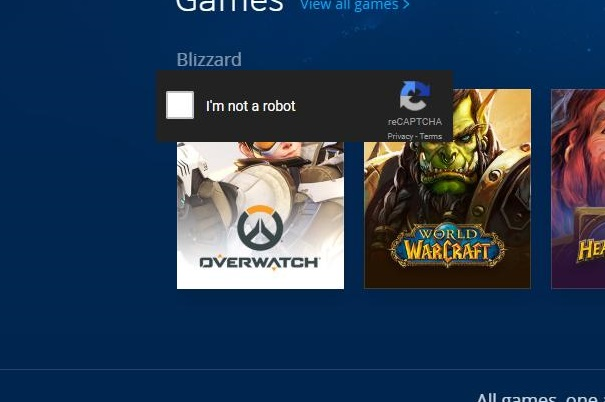captcha: (165, 90, 299, 120)
